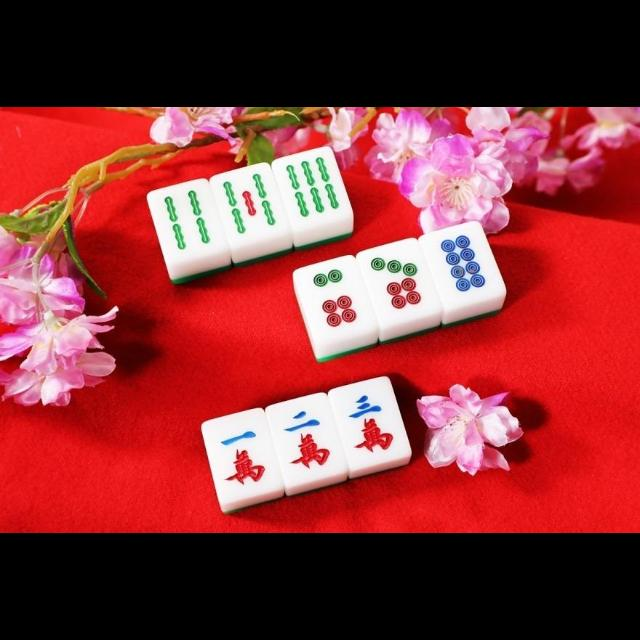b4: (153, 185, 217, 261)
b5: (216, 168, 278, 242)
b6: (280, 151, 346, 225)
c1: (210, 416, 274, 500)
c2: (273, 399, 337, 481)
c3: (337, 383, 403, 461)
d6: (301, 262, 367, 338)
d7: (363, 244, 431, 320)
d8: (428, 224, 494, 302)
